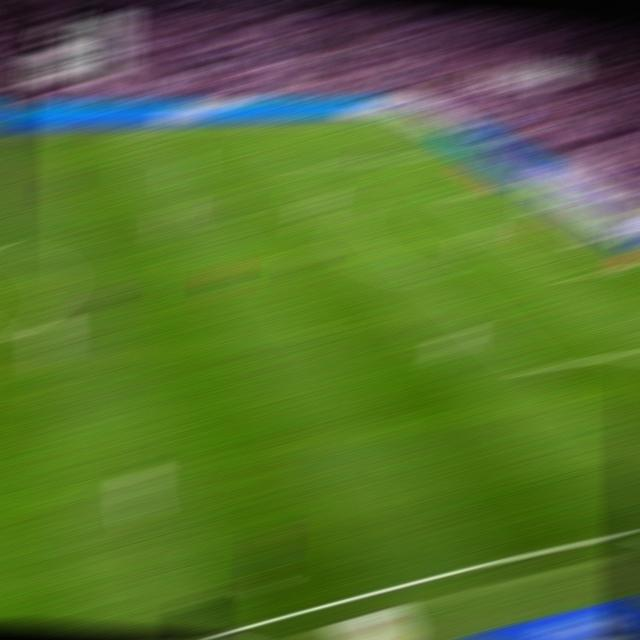bigarea_bottom_inner: (522, 358, 551, 378)
bigarea_top_inner: (297, 159, 322, 169)
bigarea_top_outter: (436, 148, 462, 155)
bottom_arc_area_intersection: (423, 273, 451, 286)
corner: (382, 116, 406, 120)
smallarea_bottom_inner: (562, 268, 590, 281)
smallarea_top_inner: (446, 189, 472, 197)
top_arc_area_intersection: (348, 205, 373, 215)
